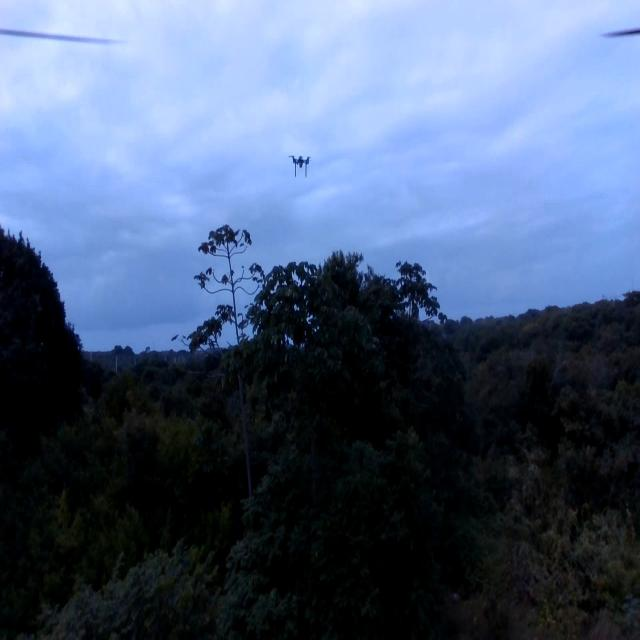-uav-: (281, 138, 323, 201)
